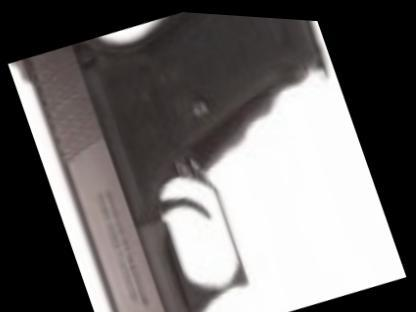pistol: (6, 0, 403, 311)
